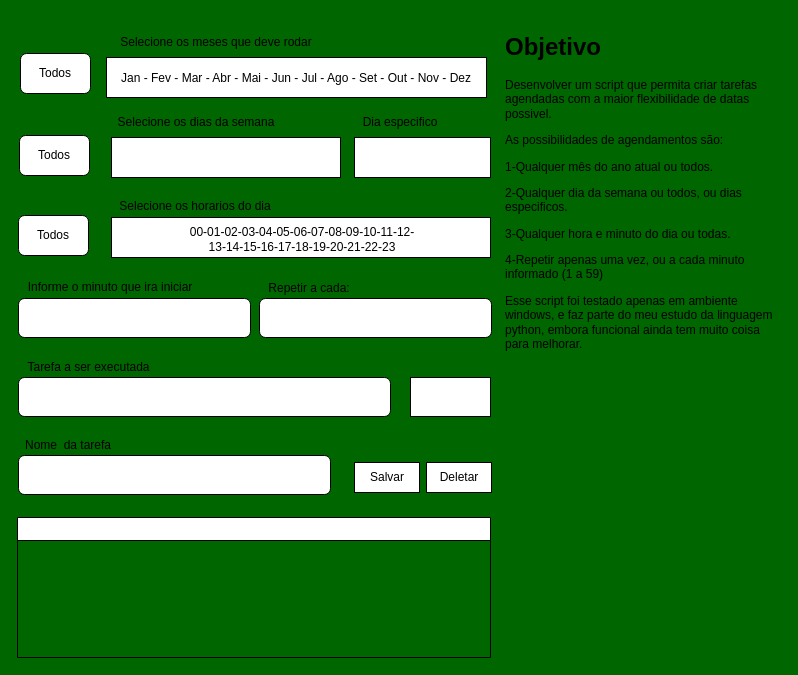
This 798x675 diagram has some shape labels left out. Here are the shapes that lost their labels. From the top down, the centre of each, then its label:
At [225,157]: "Seg - Ter - Qua - Qui - Sex - Sab - Dom".
At [450,396]: "Localizar".
At [253,587]: "Lista de agendamentos".
